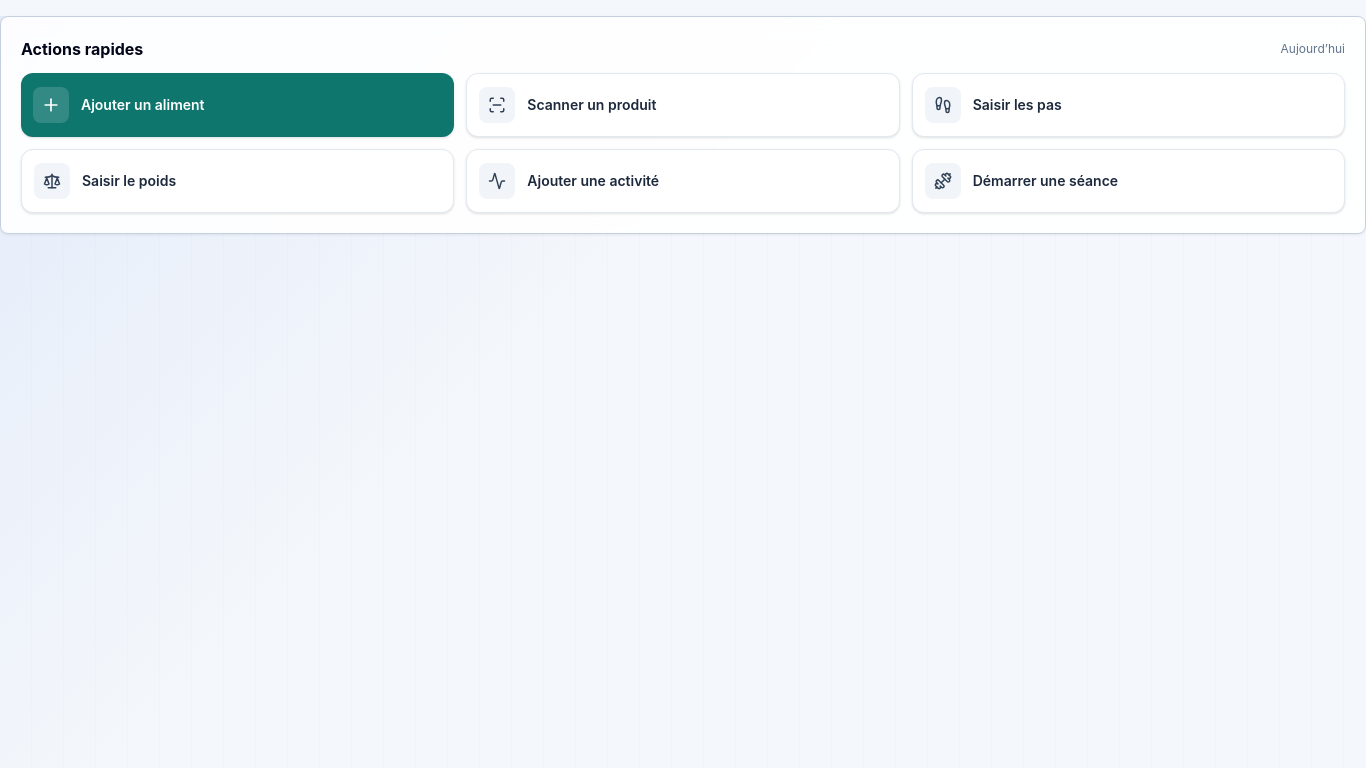
Test: DashboardQuickActions › ouvre la saisie des pas dans une boîte de dialogue et enregistre sans navigation
The width and height of the screenshot is (1366, 768).
Click the button "Saisir les pas". click: point(943, 105)
box: [912, 73, 1345, 137]
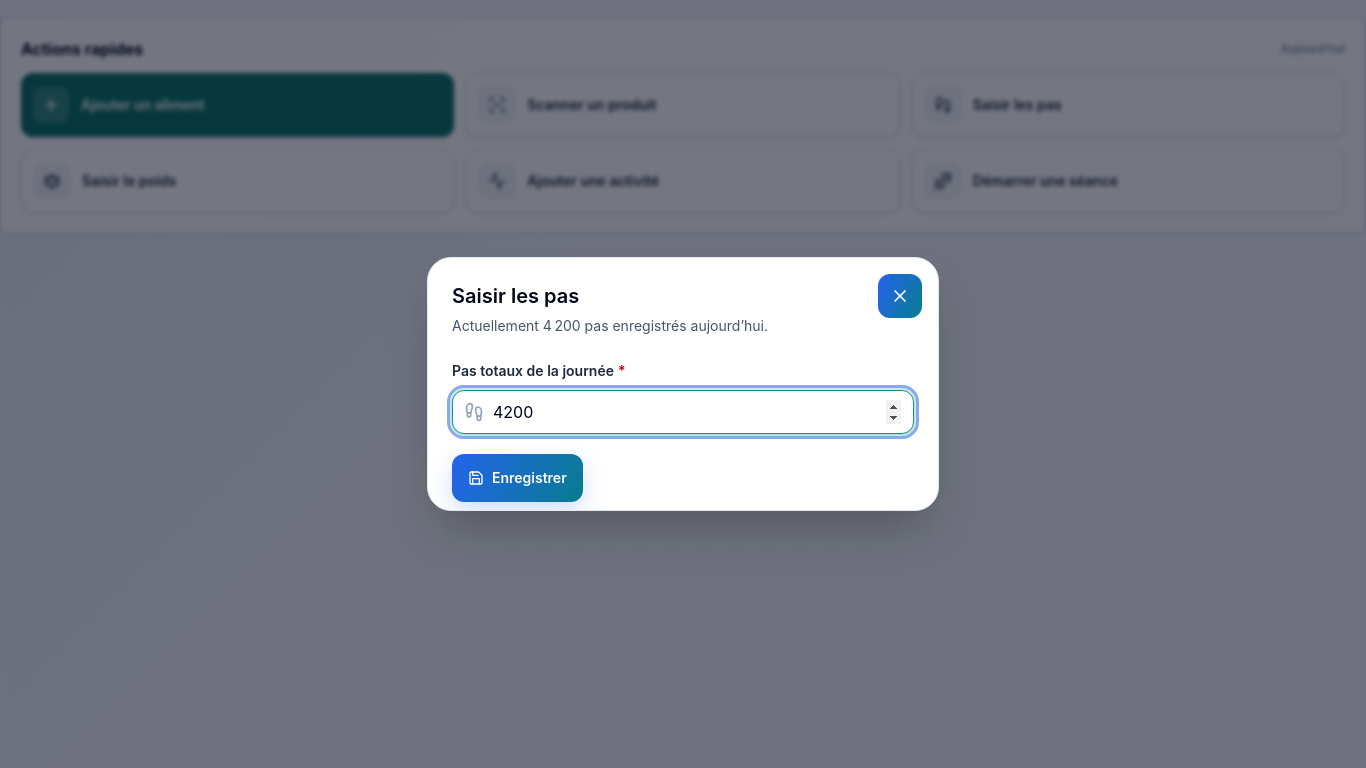
Check: the dialog "Saisir les pas" is shown, box [427, 257, 939, 511]
Check: the number field labelled "Pas totaux de la journée*" holds "4200"
Replace the text in the number field labelled "Pas totaux de la journée*" with "6500". click: point(683, 412)
box: [452, 390, 914, 434]
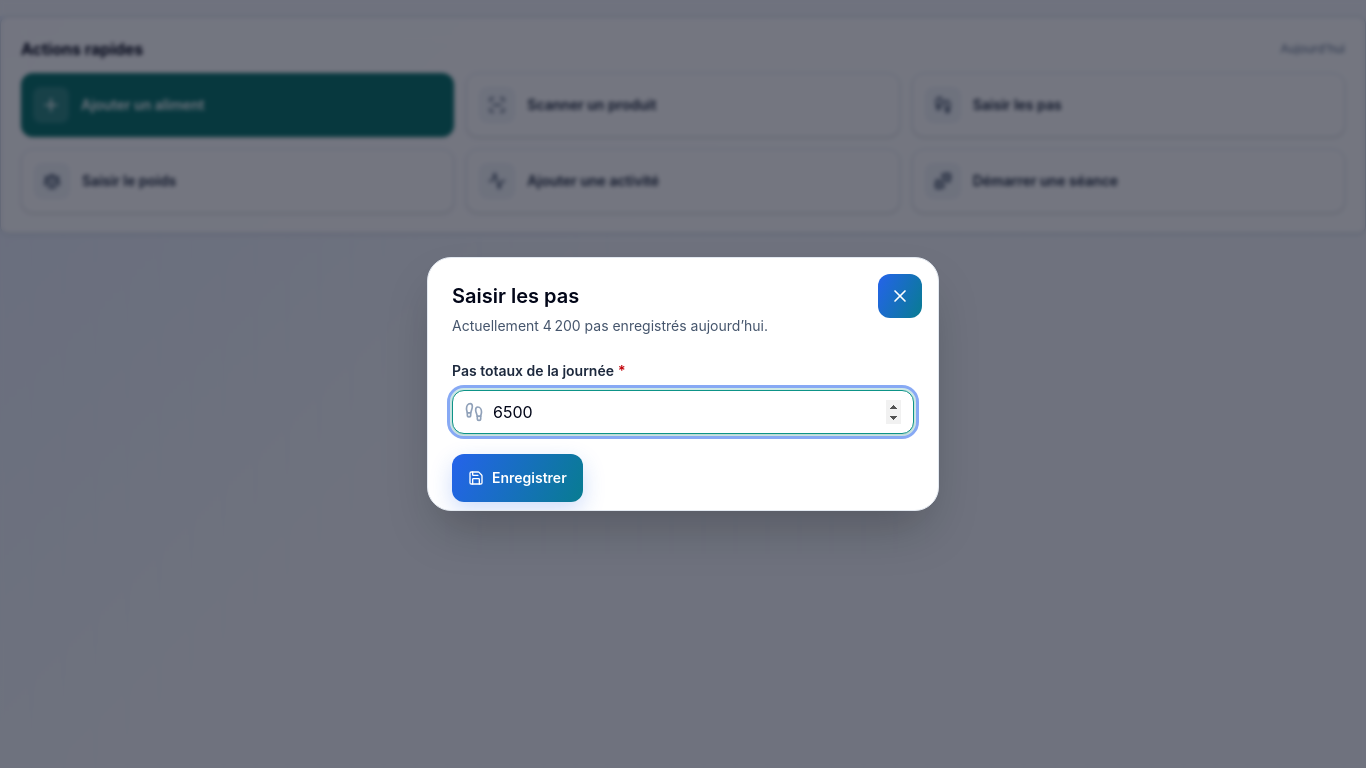
Click the button "Enregistrer". click: point(517, 478)
box: [452, 454, 583, 502]
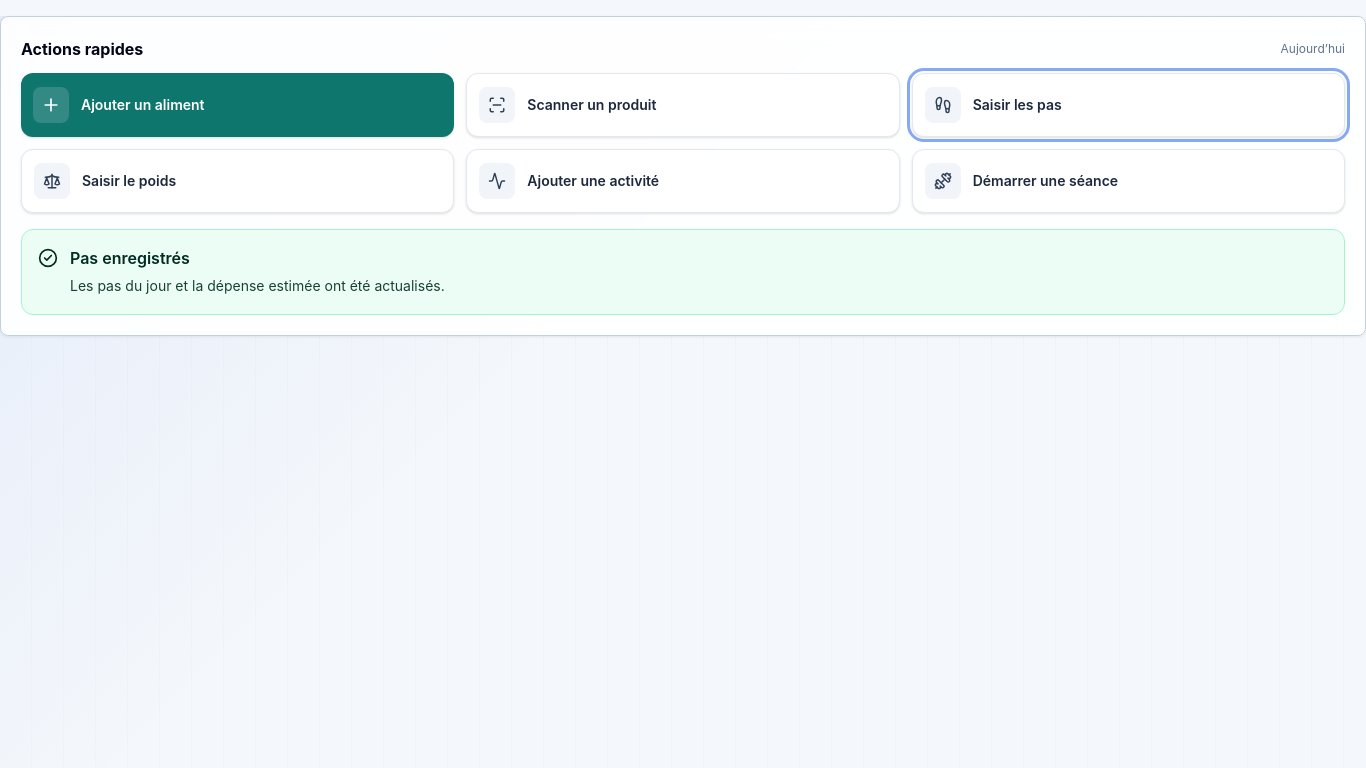
Check: the dialog is gone
Check: the number of messages is 1, box [21, 229, 1345, 315]
Check: the message shows "Pas enregistrés", box [70, 248, 190, 268]
